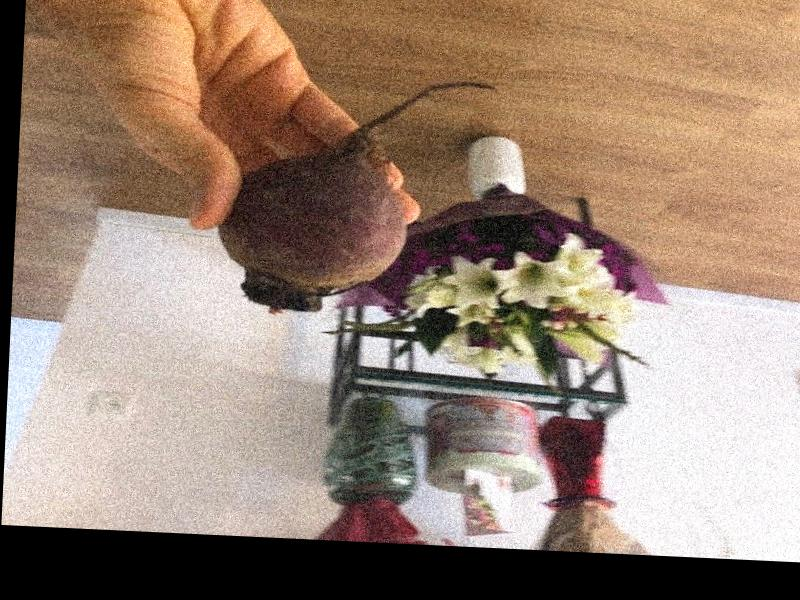Beet: (215, 71, 501, 322)
